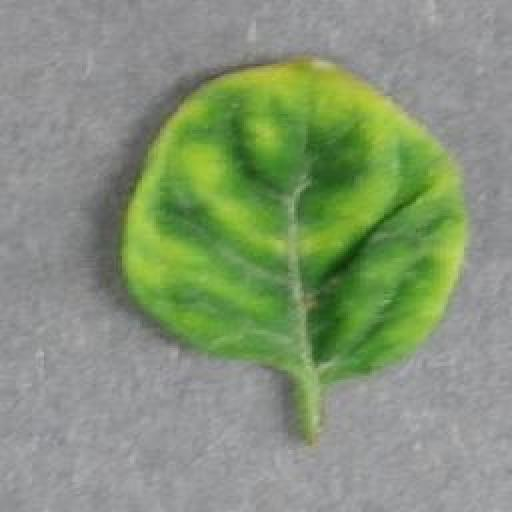Yellow Leaf Curl Virus: (114, 53, 466, 384)
